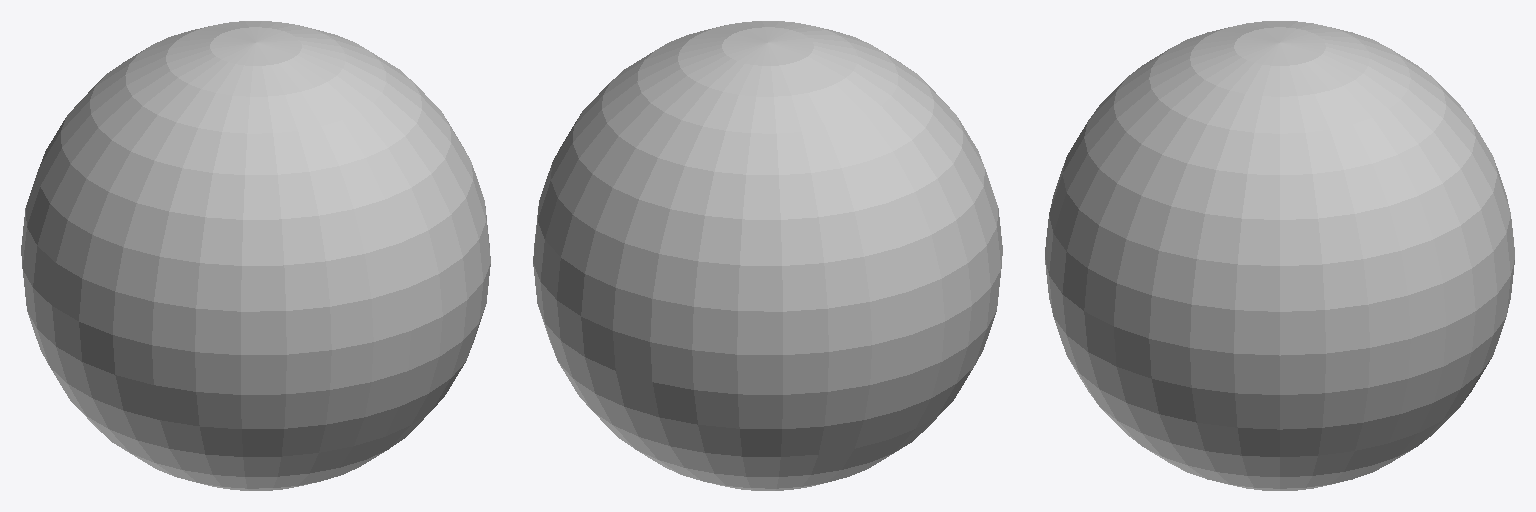
Rendered from ball.obj.
3 renders of one model, left to right at view 1: azimuth 30°, elevation 25°; view 2: azimuth 150°, elevation 25°; view 3: azimuth 270°, elevation 25°, orthographic.
Visible parts, largest first — view 1: Sphere; view 2: Sphere; view 3: Sphere.
Boxes of the visible parts, box(x1,y1,x2,y2) form: Sphere: box(21, 21, 490, 490); Sphere: box(533, 21, 1002, 490); Sphere: box(1045, 21, 1514, 490).
Bounding box in the file's own units: 0.4 × 0.4 × 0.4.